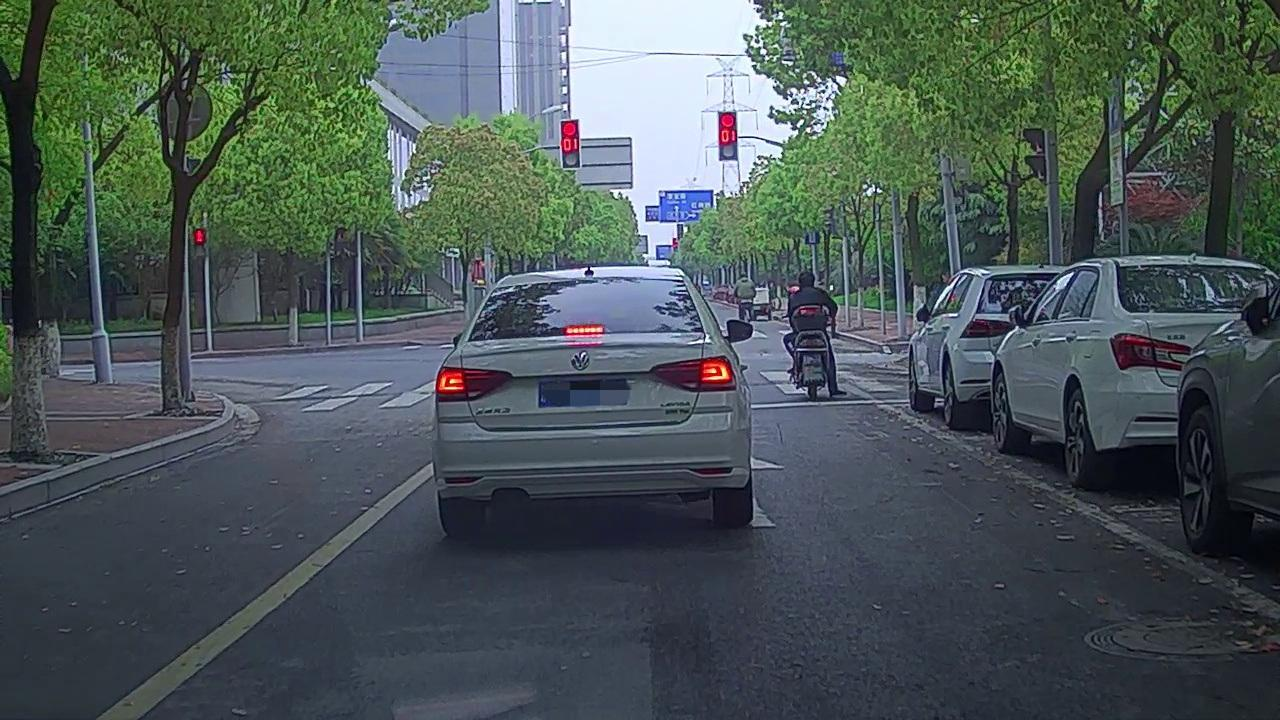traffic_light: (720, 112, 739, 160), (562, 119, 579, 169)
